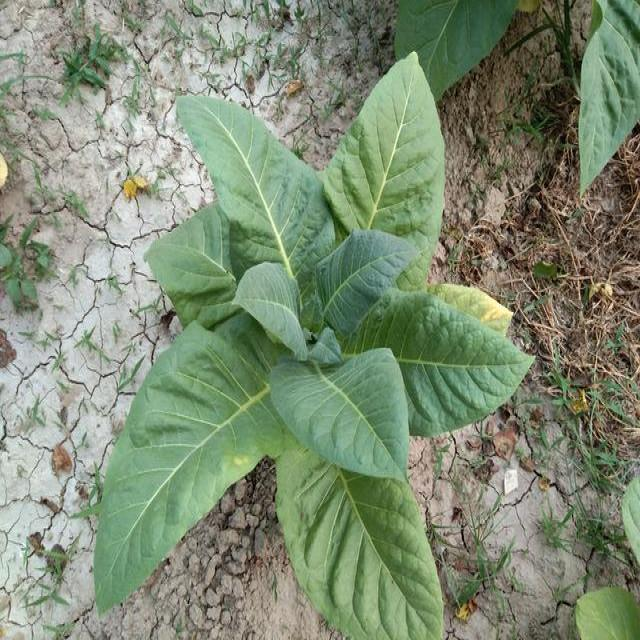crop: (96, 50, 536, 640), (566, 0, 640, 182), (389, 0, 511, 97), (577, 467, 640, 640)
